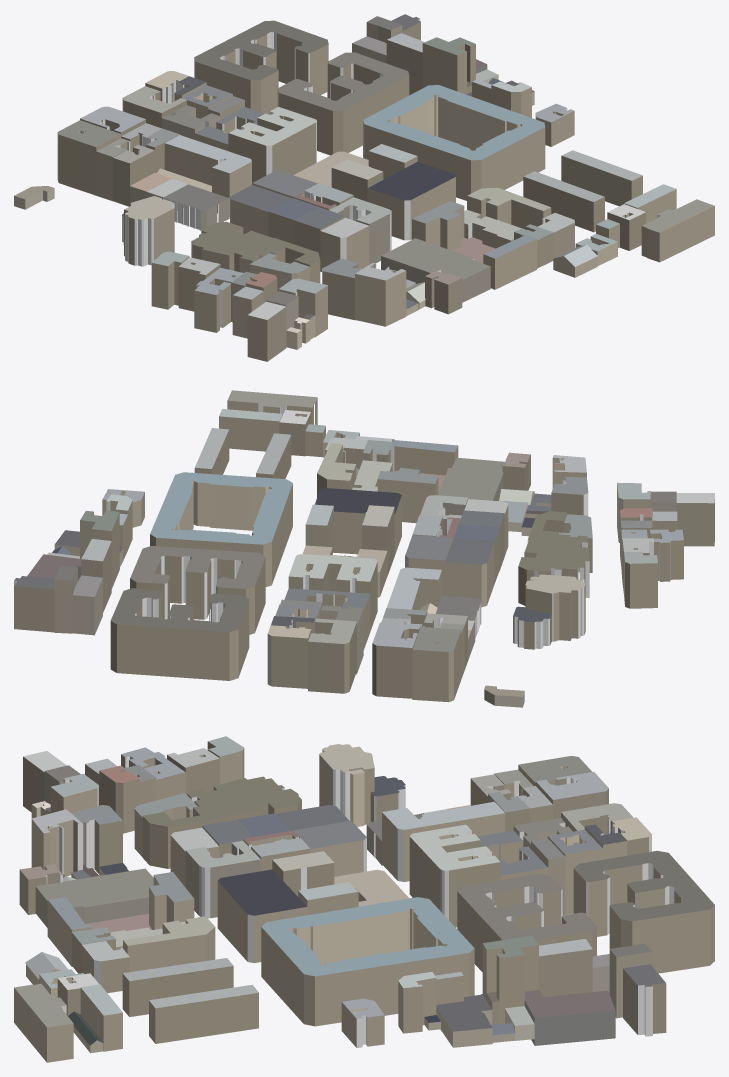
3 views of the same model, one above another, from view 1: azimuth 30°, elevation 25°; view 2: azimuth 150°, elevation 25°; view 3: azimuth 270°, elevation 25° (orthographic). The views are drawn at different scales.
Visible parts, largest first — view 1: tuile; view 2: tuile; view 3: tuile.
Part boxes in pixels (x1=…): tuile: x1=14, y1=14, x2=714, y2=361; tuile: x1=14, y1=390, x2=714, y2=707; tuile: x1=14, y1=736, x2=714, y2=1062.
Size of the model in its own units: 269 by 37.53 by 280.
